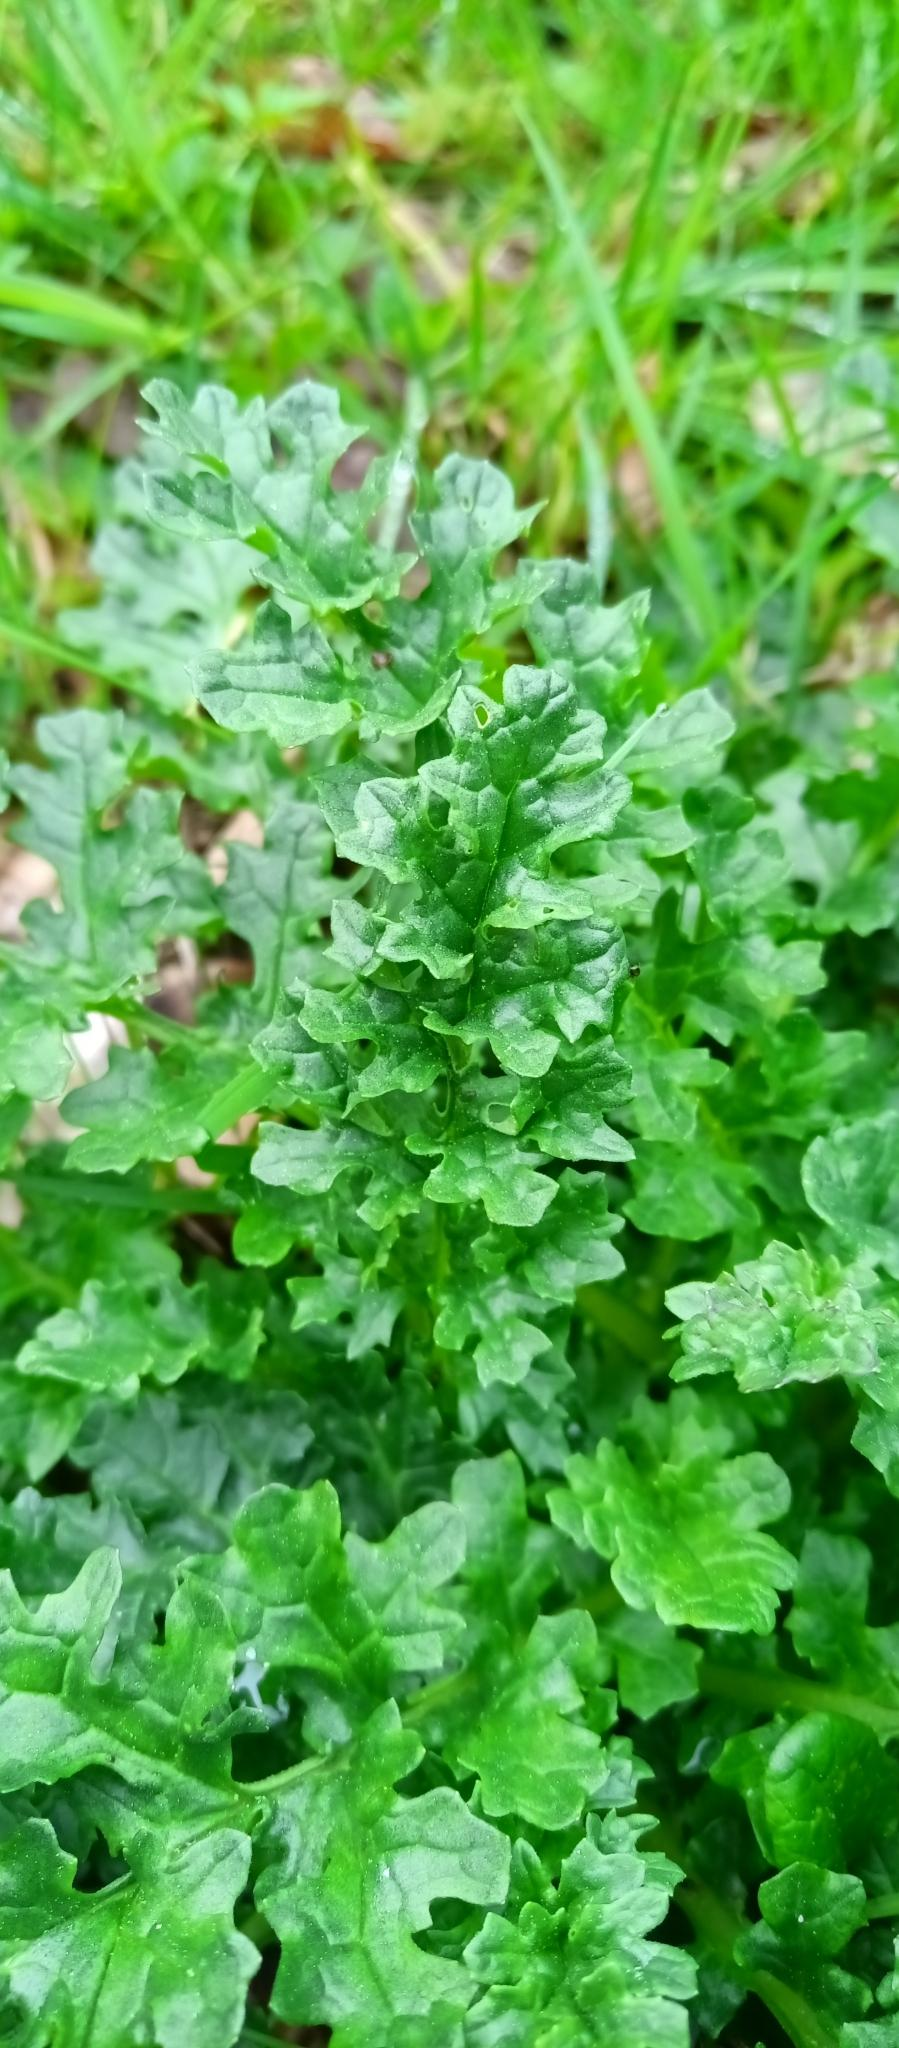Jacobaea vulgaris: (0, 357, 899, 2048)
